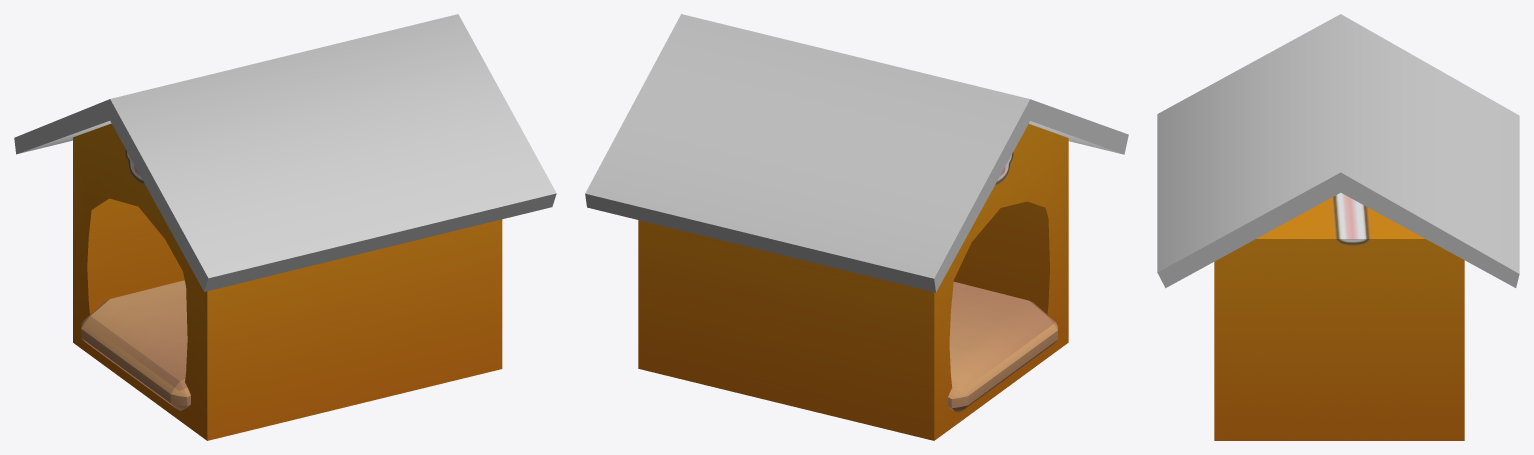
File: home.fbx
The picture shows the model from 3 angles, left to right: view 1: azimuth 30°, elevation 25°; view 2: azimuth 150°, elevation 25°; view 3: azimuth 270°, elevation 25°; orthographic projection. The views are drawn at different scales.
Visible parts, largest first — view 1: Box001; view 2: Box001; view 3: Box001.
Boxes of the visible parts, bbox=[...] form: Box001: bbox=[14, 14, 556, 440]; Box001: bbox=[585, 14, 1128, 440]; Box001: bbox=[1157, 14, 1519, 440].
Bounding box in the file's own units: 28.38 × 23.33 × 27.42.
